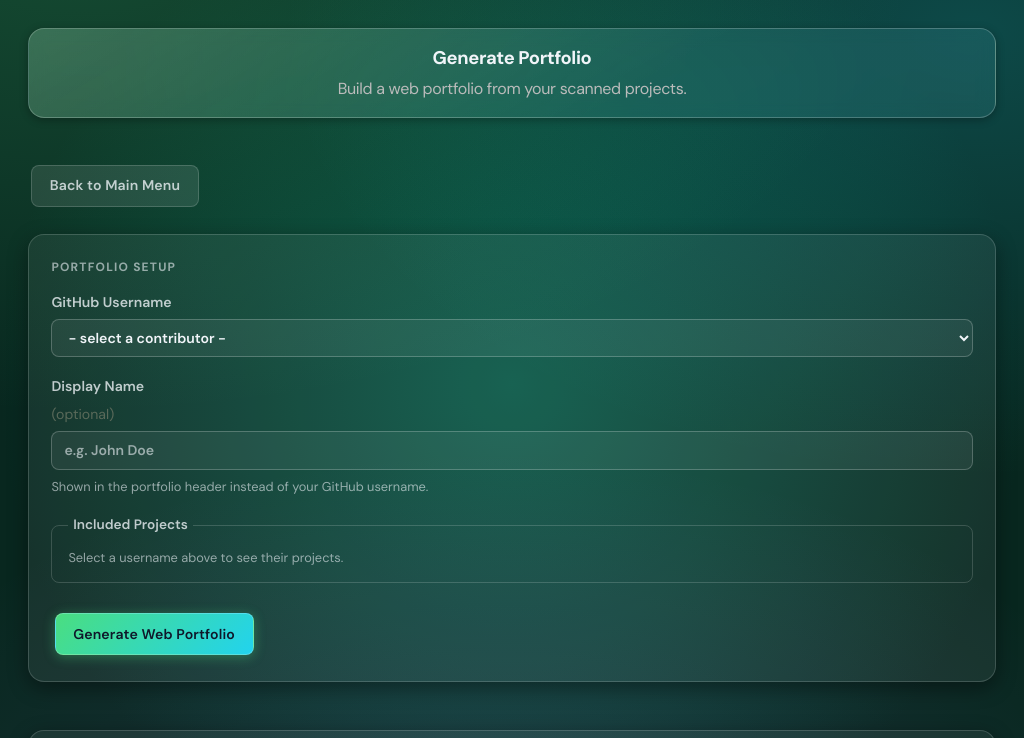
it: PortfolioPage › back to setup button returns to setup form
The width and height of the screenshot is (1024, 738).
expect the button "Generate Web Portfolio" is shown: met, box [55,613,254,655]
Select "alice" in the dropdown: point(512, 338) [51,319,973,357]
(page scrolled)
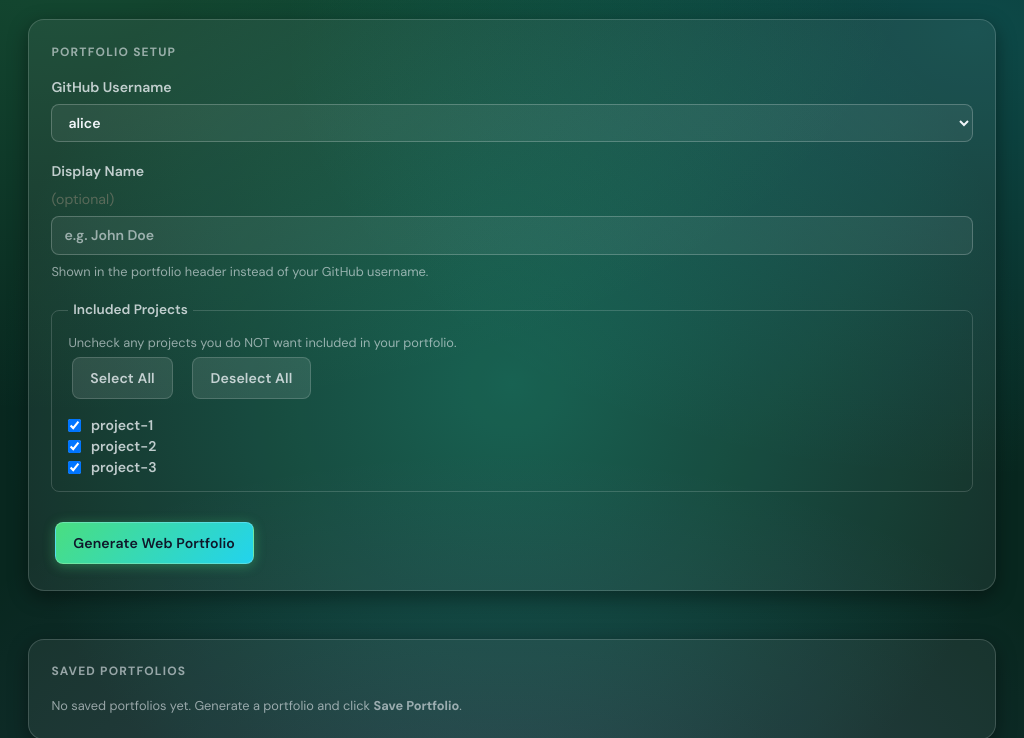
Click the button "Generate Web Portfolio": point(154, 543) [55,522,254,564]
(page scrolled)
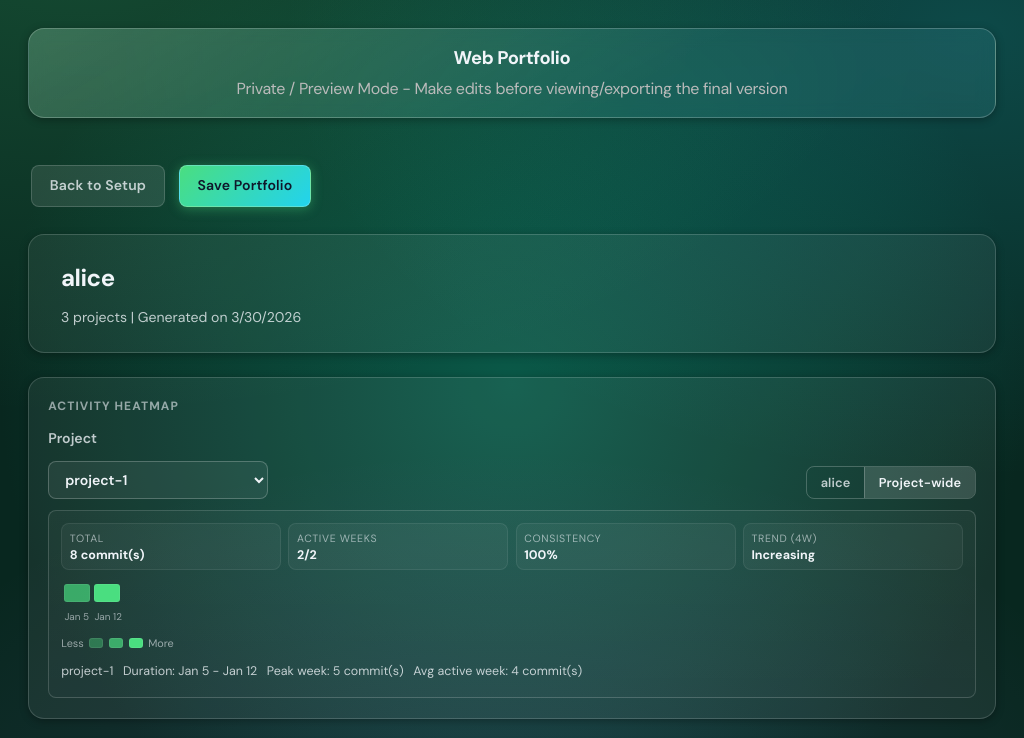
expect the heading "Activity Heatmap" is shown: met, box [48,398,179,414]
Click the button "Back to Setup": point(98, 186) [31,165,165,207]
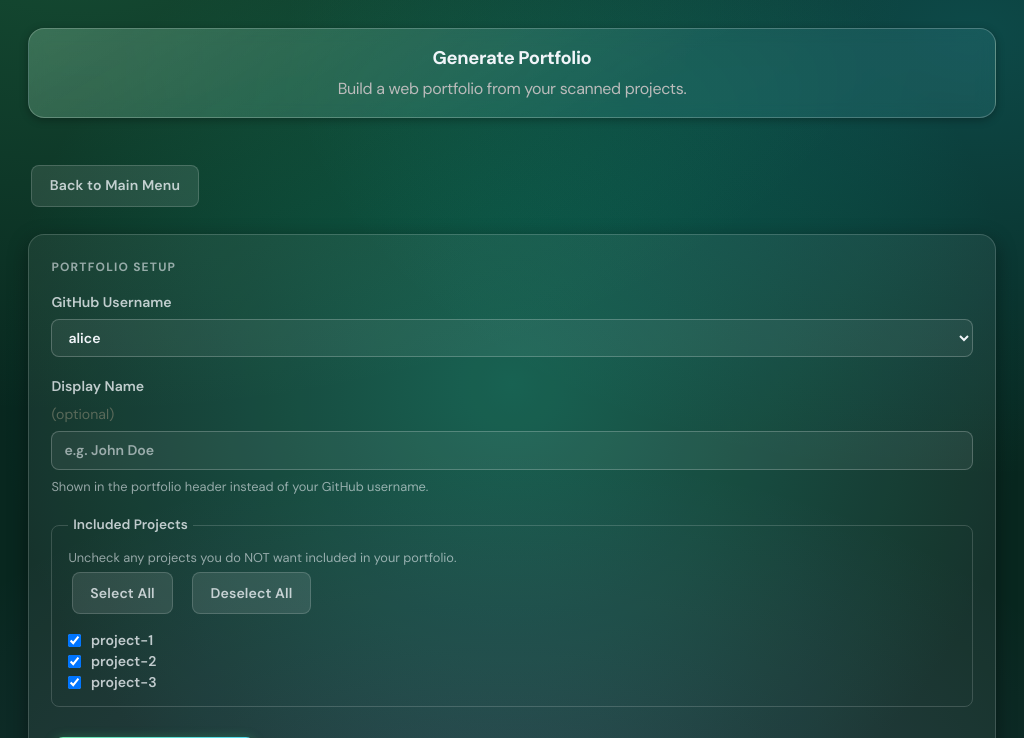
expect the heading "Portfolio Setup" is shown: met, box [51,259,176,275]
